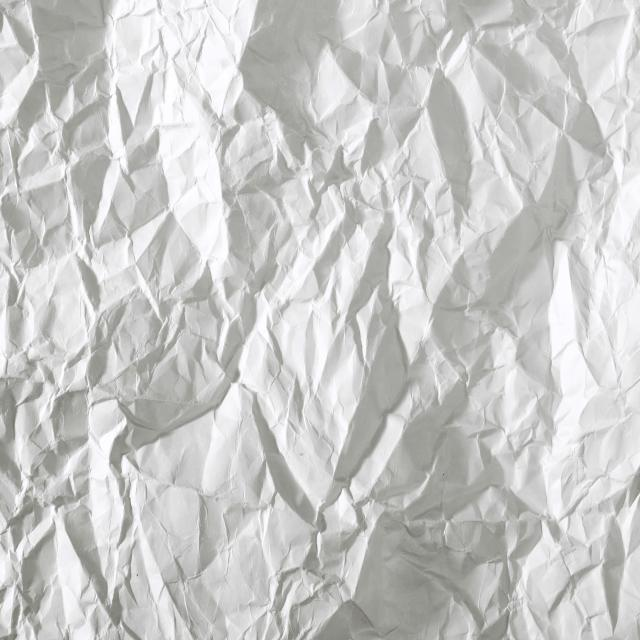paper: (135, 56, 452, 532)
